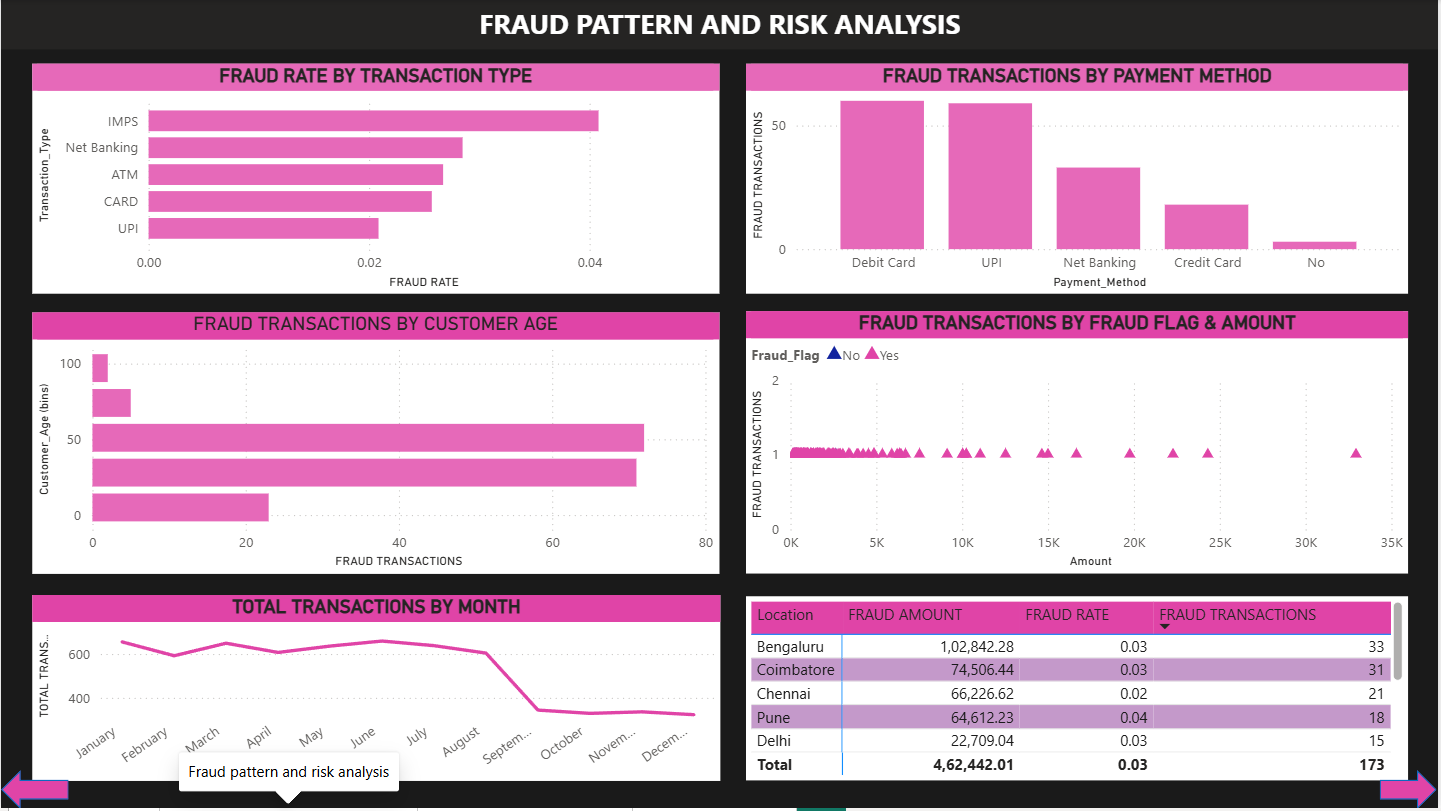

What the dashboard file says about the page in this screenshot:
{"tool":"powerbi","page":{"name":"Fraud pattern and  risk analysis","canvas":[1280,720],"ordinal":1},"visuals":[{"type":"clusteredBarChart","title":"FRAUD RATE BY TRANSACTION TYPE","fields":{"Category":["FRAUD DATA.Transaction_Type"],"Y":["FRAUD DATA.FRAUD RATE"]},"box":[27.7,56.7,611.7,205.1],"z":0},{"type":"columnChart","title":"FRAUD TRANSACTIONS BY PAYMENT METHOD","fields":{"Category":["FRAUD DATA.Payment_Method"],"Y":["FRAUD DATA.FRAUD TRANSACTIONS"]},"box":[663.5,56.7,589.9,205.1],"z":1000},{"type":"barChart","title":"FRAUD TRANSACTIONS BY CUSTOMER AGE","fields":{"Y":["FRAUD DATA.FRAUD TRANSACTIONS"],"Category":["FRAUD DATA.Customer_Age (bins)"]},"box":[27.7,278.7,611.7,232.8],"z":2000},{"type":"scatterChart","title":"FRAUD TRANSACTIONS BY FRAUD FLAG & AMOUNT","fields":{"X":["FRAUD DATA.Amount"],"Y":["FRAUD DATA.FRAUD TRANSACTIONS"],"Series":["FRAUD DATA.Fraud_Flag"]},"box":[663.5,277.2,590,233.8],"z":3000},{"type":"lineChart","title":"TOTAL TRANSACTIONS BY MONTH","fields":{"Category":["FRAUD DATA.Transaction_Date.Variation.Date Hierarchy.Month"],"Y":["FRAUD DATA.TOTAL TRANSACTIONS"]},"box":[27.7,529.6,612.9,165.3],"z":4000},{"type":"pivotTable","fields":{"Rows":["FRAUD DATA.Location"],"Values":["FRAUD DATA.FRAUD AMOUNT","FRAUD DATA.FRAUD RATE","FRAUD DATA.FRAUD TRANSACTIONS"]},"box":[663.5,530.8,589.9,164.1],"z":5000},{"type":"textbox","box":[0,0,1280.3,44],"z":6000},{"type":"shape","box":[1228.2,685.3,50.7,35],"z":6001},{"type":"shape","box":[0,685.3,60.3,35],"z":6002}]}

Visuals, with their boxes in screenshot pixels (x1, y1, x2, y2), scaled from the page's 1280x720 canvas onto the 1441x811 screenshot:
"FRAUD RATE BY TRANSACTION TYPE" clusteredBarChart: bbox=(31, 64, 720, 295)
"FRAUD TRANSACTIONS BY PAYMENT METHOD" columnChart: bbox=(747, 64, 1411, 295)
"FRAUD TRANSACTIONS BY CUSTOMER AGE" barChart: bbox=(31, 314, 720, 576)
"FRAUD TRANSACTIONS BY FRAUD FLAG & AMOUNT" scatterChart: bbox=(747, 312, 1411, 576)
"TOTAL TRANSACTIONS BY MONTH" lineChart: bbox=(31, 597, 721, 783)
pivotTable - FRAUD DATA.Location x FRAUD DATA.FRAUD AMOUNT: bbox=(747, 598, 1411, 783)
textbox: bbox=(0, 0, 1440, 50)
shape: bbox=(1383, 772, 1440, 810)
shape: bbox=(0, 772, 68, 810)
